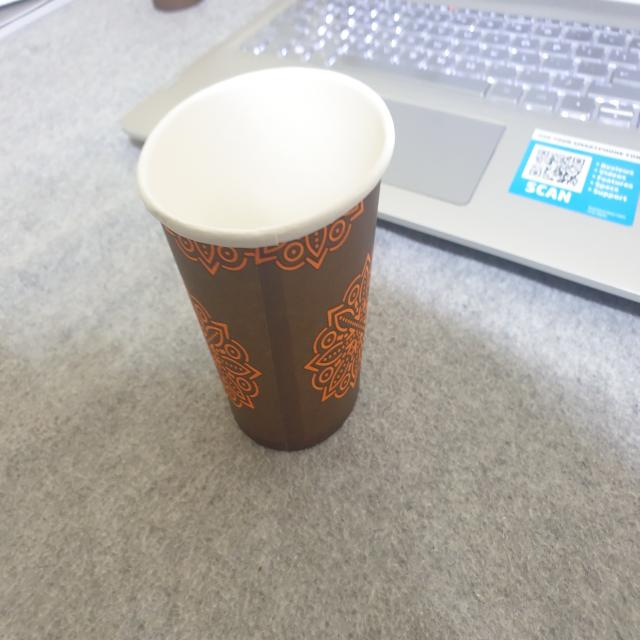cups: (129, 58, 405, 466)
